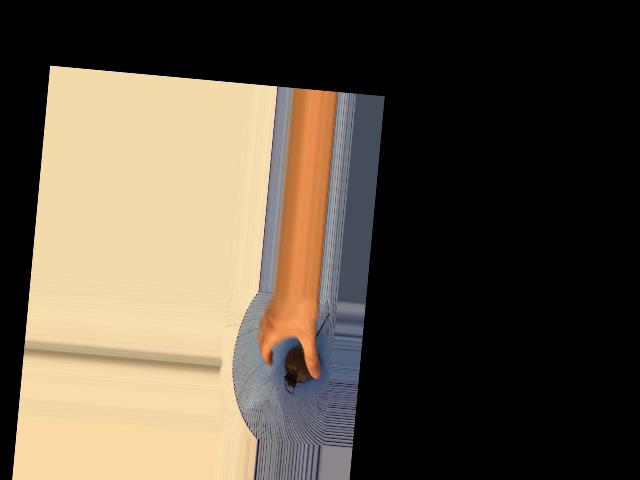beet: (282, 310, 329, 397)
